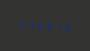eight: (45, 20, 53, 31)
five: (17, 18, 25, 29)
four: (26, 19, 34, 30)
one: (54, 20, 62, 31)
six: (36, 19, 44, 30)
zero: (63, 20, 71, 32)
